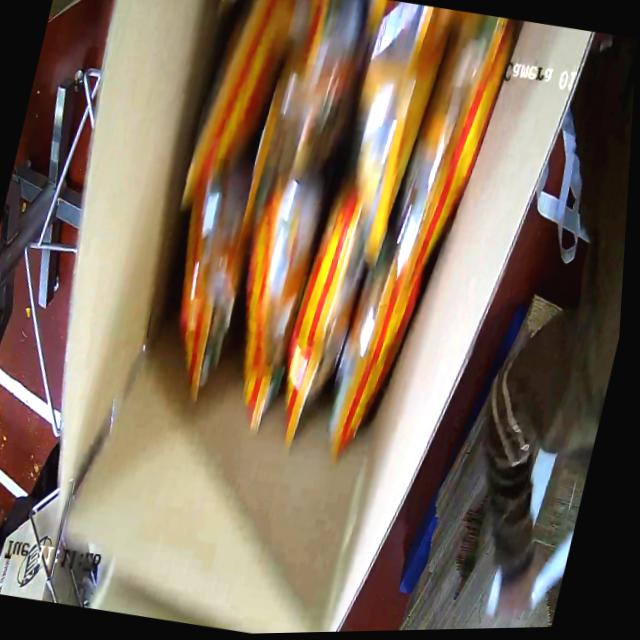FRENCH_CHEESE: (119, 0, 537, 474)
